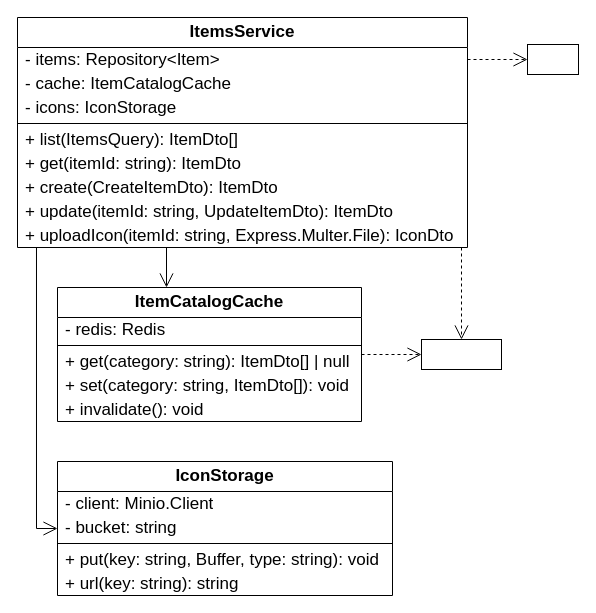
The diagram is 596 pixels wide and 613 high, and some of its shapes have lost their labels. The shapes that lost their labels are listed below. From the top down, each one's centre as x and y in pixels, then its label:
the point at 552,59: Item
the point at 461,354: ItemDto
